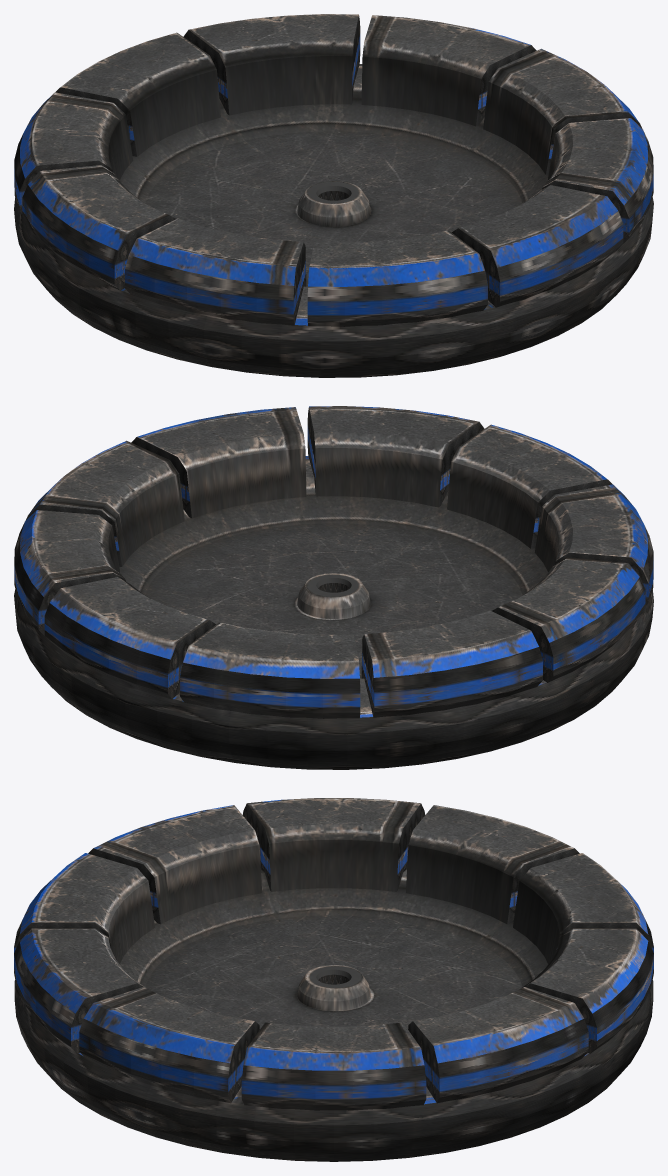
Rendered from BlueFlagPod.glb.
3 renders of one model, top to bottom at view 1: azimuth 30°, elevation 25°; view 2: azimuth 150°, elevation 25°; view 3: azimuth 270°, elevation 25°, orthographic.
Parts seen in each view (by area): view 1: BlueFlagPod; view 2: BlueFlagPod; view 3: BlueFlagPod.
Boxes of the visible parts, x1=… form: BlueFlagPod: x1=14, y1=14, x2=653, y2=377; BlueFlagPod: x1=14, y1=406, x2=653, y2=769; BlueFlagPod: x1=14, y1=798, x2=653, y2=1161.
Bounding box in the file's own units: 0.8 × 0.15 × 0.7998.
2 materials, 2 textured.
